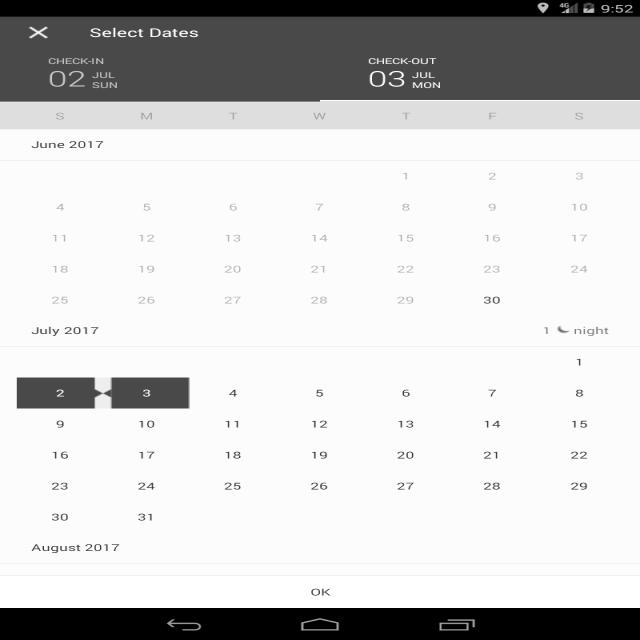ImageButton: (21, 22, 62, 46)
TextView: (360, 47, 460, 93), (42, 56, 132, 88), (82, 22, 206, 43), (30, 130, 108, 162), (22, 536, 127, 554), (538, 321, 620, 342), (24, 320, 108, 338)
